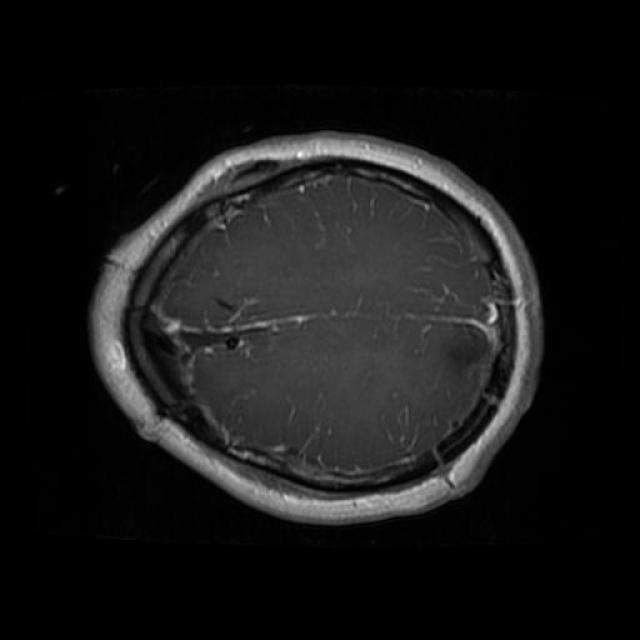Glioma: (440, 325, 491, 373)
